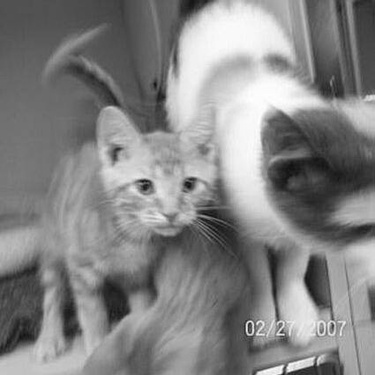cat: (176, 2, 368, 314), (18, 93, 225, 354)
